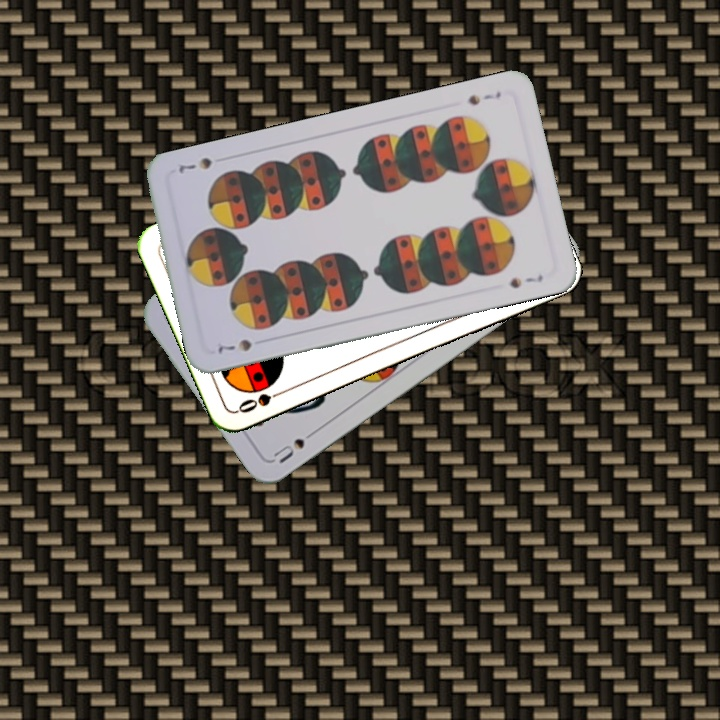S7: (213, 335, 255, 356), (463, 87, 504, 108)
SO: (234, 385, 291, 416)
SU: (269, 424, 322, 466)
